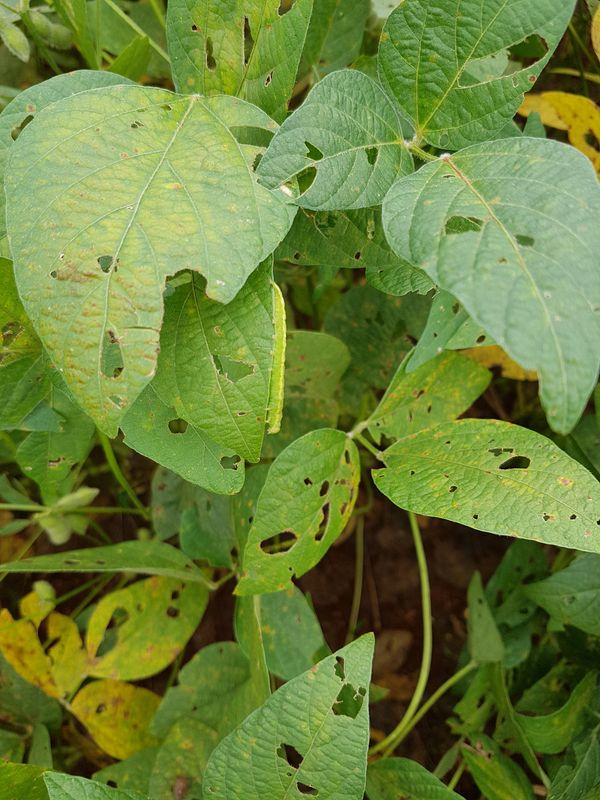Anticarsia_gemmatalis: (236, 273, 315, 442)
Euschistus_heros_adulto: (161, 767, 200, 800)
